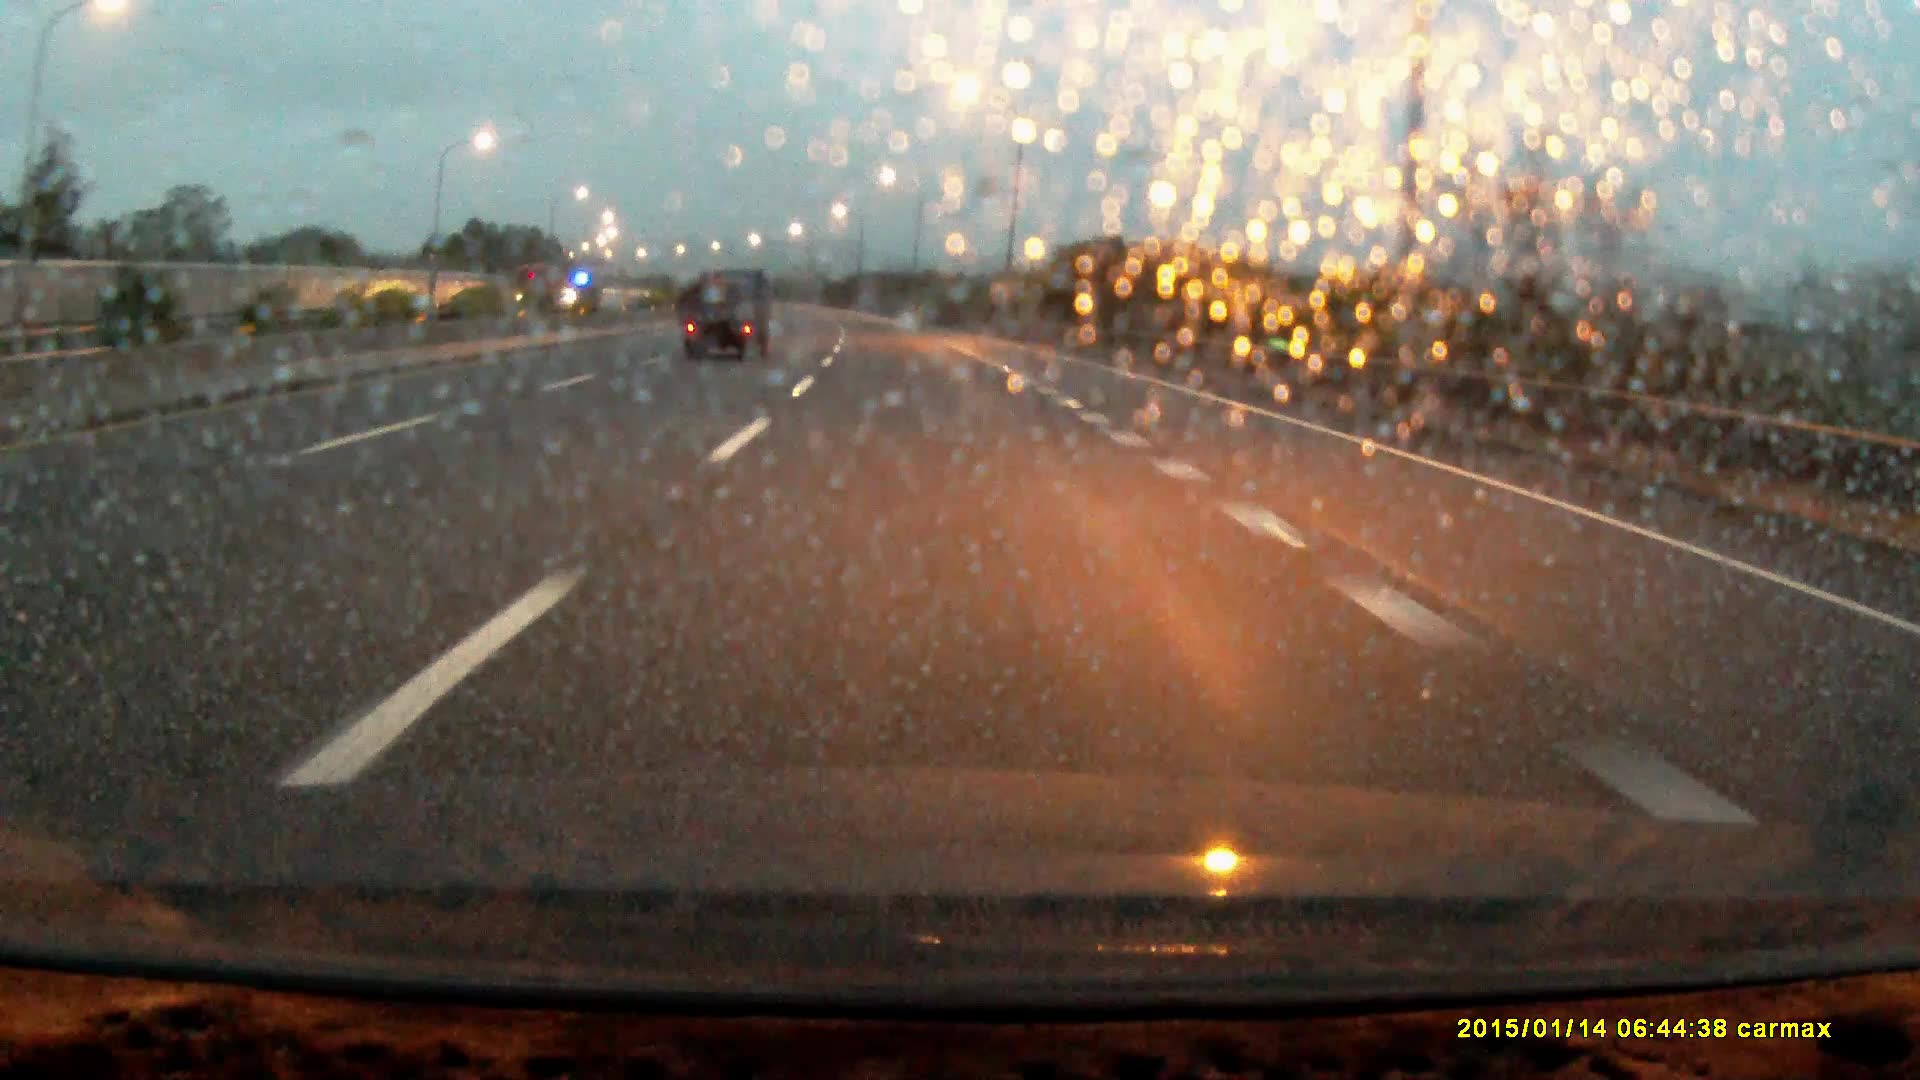vehicle: (684, 265, 769, 361), (510, 262, 567, 309)
